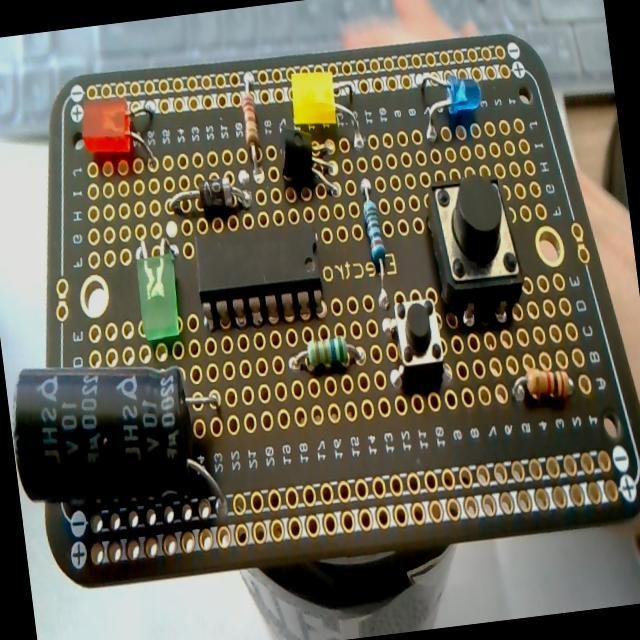Electrolytic capacitor: (7, 344, 234, 543)
IC: (190, 208, 326, 328)
diode: (166, 172, 253, 222)
led: (74, 89, 162, 177), (132, 246, 186, 356), (416, 66, 486, 143), (288, 67, 340, 146)
resistor: (358, 176, 393, 308), (284, 330, 366, 376), (236, 68, 265, 173), (510, 363, 574, 408)
switch: (422, 168, 528, 328), (380, 292, 448, 389)
transistor: (276, 124, 344, 203)
